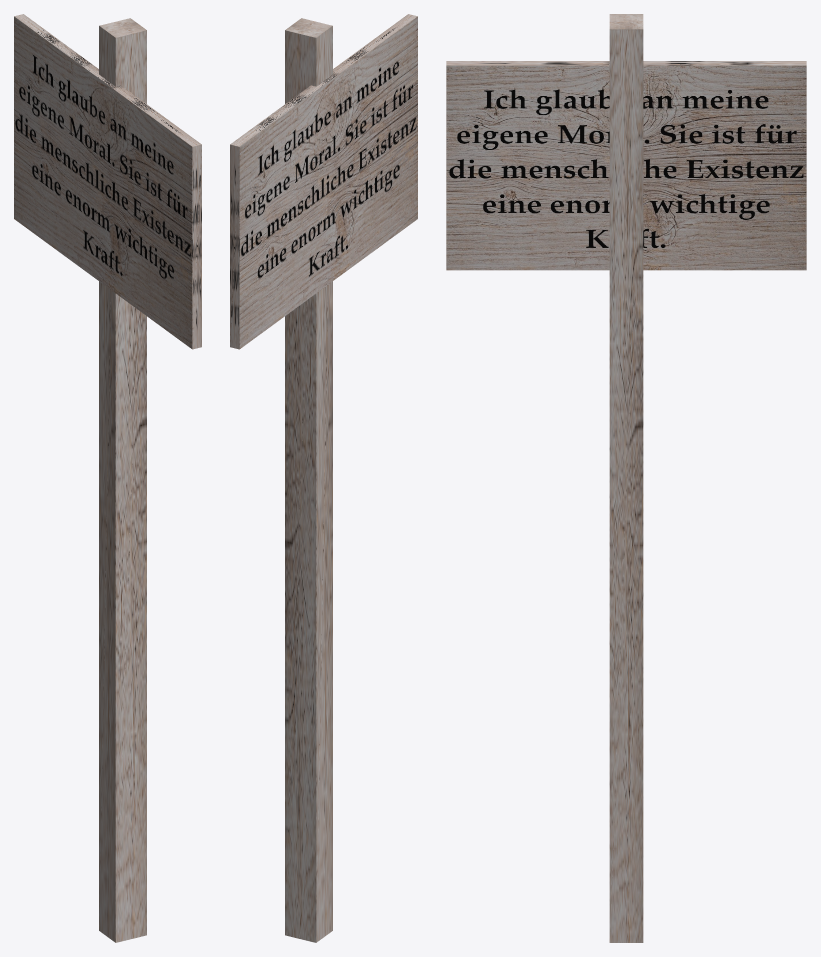
The model's file is Schild Scheune3.fbx.
3 renders of one model, left to right at view 1: azimuth 30°, elevation 25°; view 2: azimuth 150°, elevation 25°; view 3: azimuth 270°, elevation 25°, orthographic.
Visible parts, largest first — view 1: Cube__1_, Cube; view 2: Cube__1_, Cube; view 3: Cube__1_, Cube.
Boxes of the visible parts, x1,y1,x2,y2 form: Cube__1_: (14, 14, 201, 349); Cube: (99, 18, 146, 942); Cube__1_: (230, 14, 417, 349); Cube: (285, 18, 332, 942); Cube__1_: (446, 61, 806, 270); Cube: (609, 14, 643, 942).
Size of the model in its own units: 12.87 by 313 by 112.
